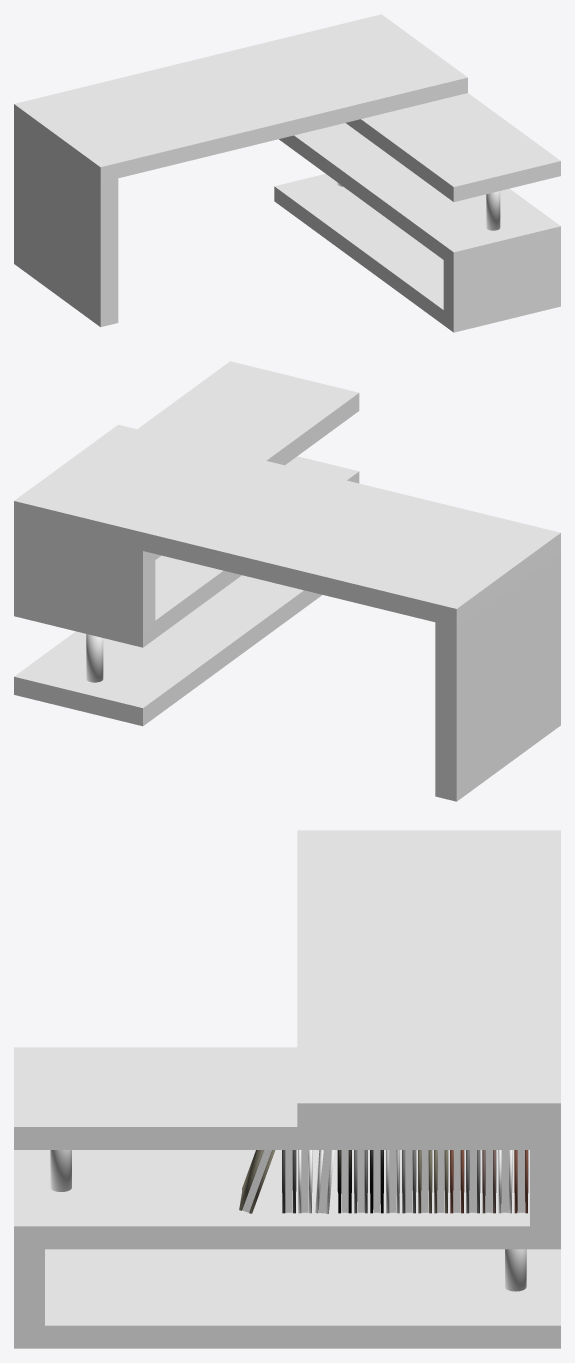
The model's file is l_shaped_desk.glb.
3 views of the same model, one above another, from view 1: azimuth 30°, elevation 25°; view 2: azimuth 150°, elevation 25°; view 3: azimuth 270°, elevation 25° (orthographic). The views are drawn at different scales.
Parts seen in each view (by area): view 1: l_shaped_desk; view 2: l_shaped_desk; view 3: l_shaped_desk.
Boxes of the visible parts, <box> form: l_shaped_desk: <box>14,14,560,332</box>; l_shaped_desk: <box>14,361,560,801</box>; l_shaped_desk: <box>14,830,560,1348</box>.
Bounding box in the file's own units: 3.53 × 1.48 × 2.99.
Materials: 1 (1 with a texture image).
